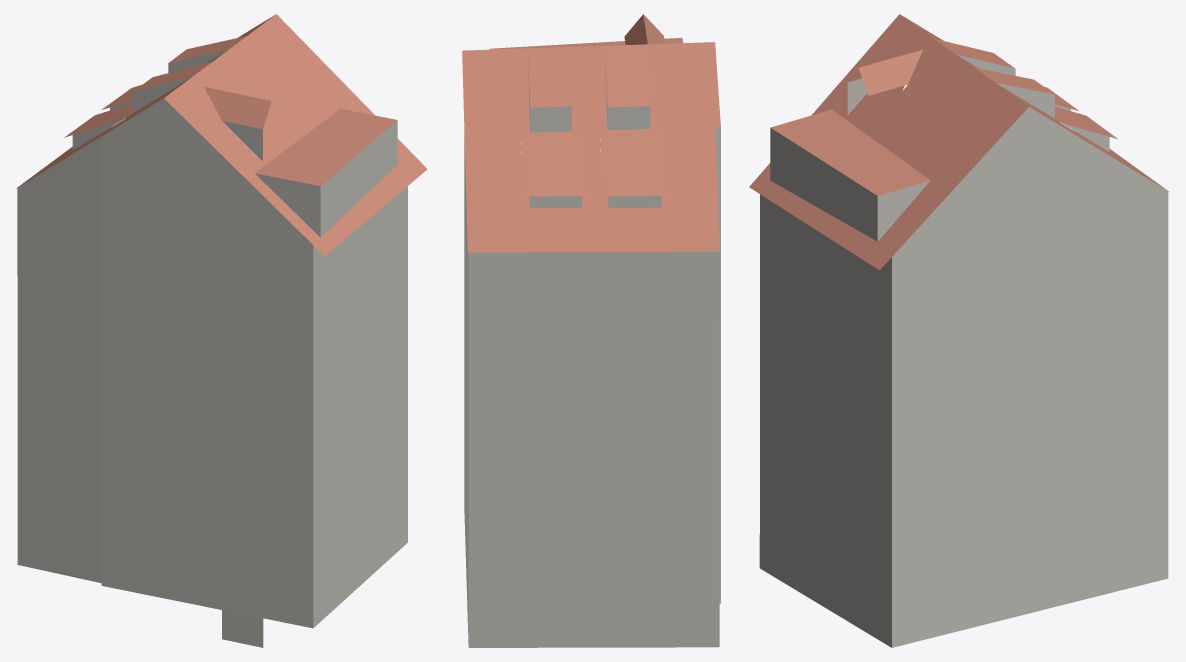
3 views of the same model, side by side, from view 1: azimuth 30°, elevation 25°; view 2: azimuth 150°, elevation 25°; view 3: azimuth 270°, elevation 25° (orthographic). The views are drawn at different scales.
Parts seen in each view (by area): view 1: swisstopo:swissbuildings3d:424e828c-9205-447b-bfe6-e8bc2bd35; view 2: swisstopo:swissbuildings3d:424e828c-9205-447b-bfe6-e8bc2bd35; view 3: swisstopo:swissbuildings3d:424e828c-9205-447b-bfe6-e8bc2bd35.
Boxes of the visible parts, <box> form: swisstopo:swissbuildings3d:424e828c-9205-447b-bfe6-e8bc2bd35: <box>16,14,427,647</box>; swisstopo:swissbuildings3d:424e828c-9205-447b-bfe6-e8bc2bd35: <box>462,14,720,647</box>; swisstopo:swissbuildings3d:424e828c-9205-447b-bfe6-e8bc2bd35: <box>749,14,1170,647</box>.
Bounding box in the file's own units: 14.83 × 23.5 × 15.98.
